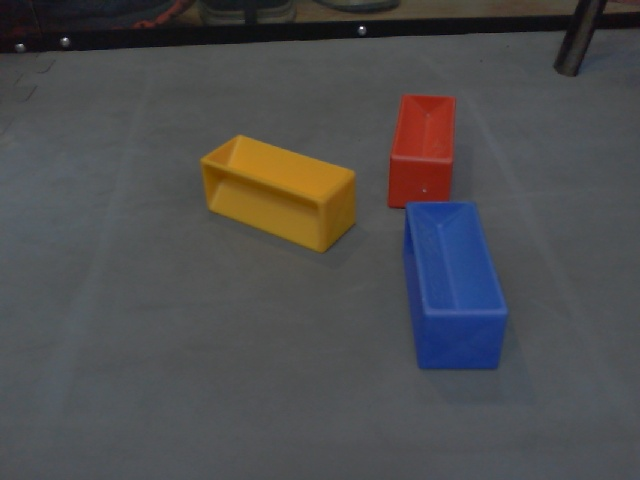BlueSample: (400, 198, 510, 374)
RedSample: (387, 92, 456, 214)
YellowSample: (199, 132, 360, 255)
